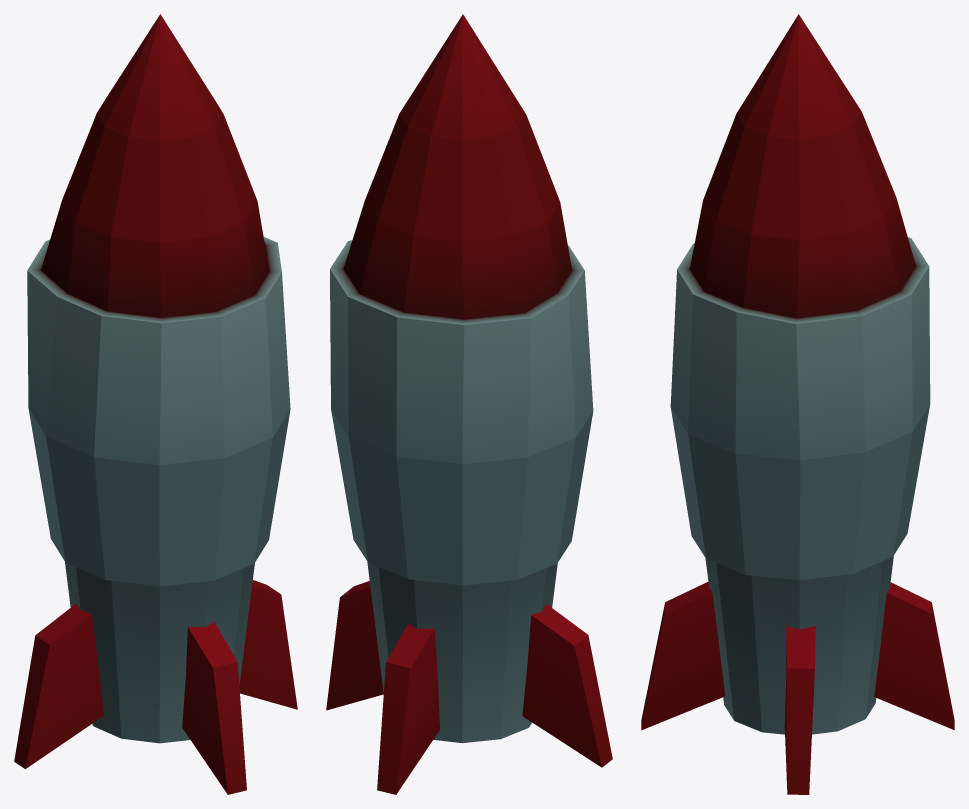
The model's file is Tank Shell Pointy.fbx.
3 views of the same model, side by side, from view 1: azimuth 30°, elevation 25°; view 2: azimuth 150°, elevation 25°; view 3: azimuth 270°, elevation 25° (orthographic).
Visible parts, largest first — view 1: Tank Shell Pointy; view 2: Tank Shell Pointy; view 3: Tank Shell Pointy.
Boxes of the visible parts, bbox=[...] form: Tank Shell Pointy: bbox=[14, 14, 297, 794]; Tank Shell Pointy: bbox=[326, 14, 612, 794]; Tank Shell Pointy: bbox=[641, 14, 954, 794].
Size of the model in its own units: 31.58 by 79.7 by 31.58.
